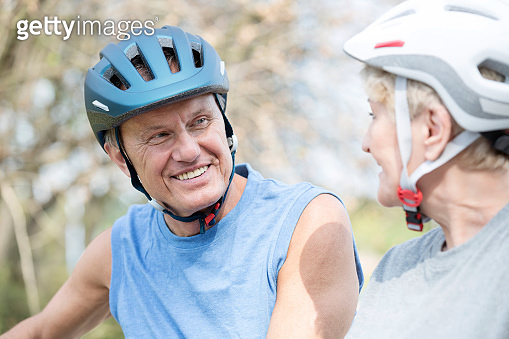helmet: (343, 1, 509, 208), (85, 26, 238, 222)
